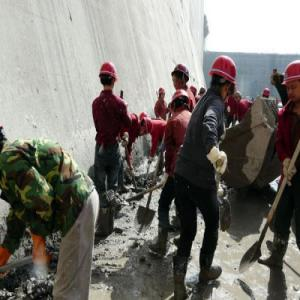red: (210, 55, 239, 102), (283, 59, 300, 105), (98, 60, 120, 94), (169, 89, 193, 116), (172, 63, 192, 92), (139, 116, 156, 139), (158, 88, 167, 101)
